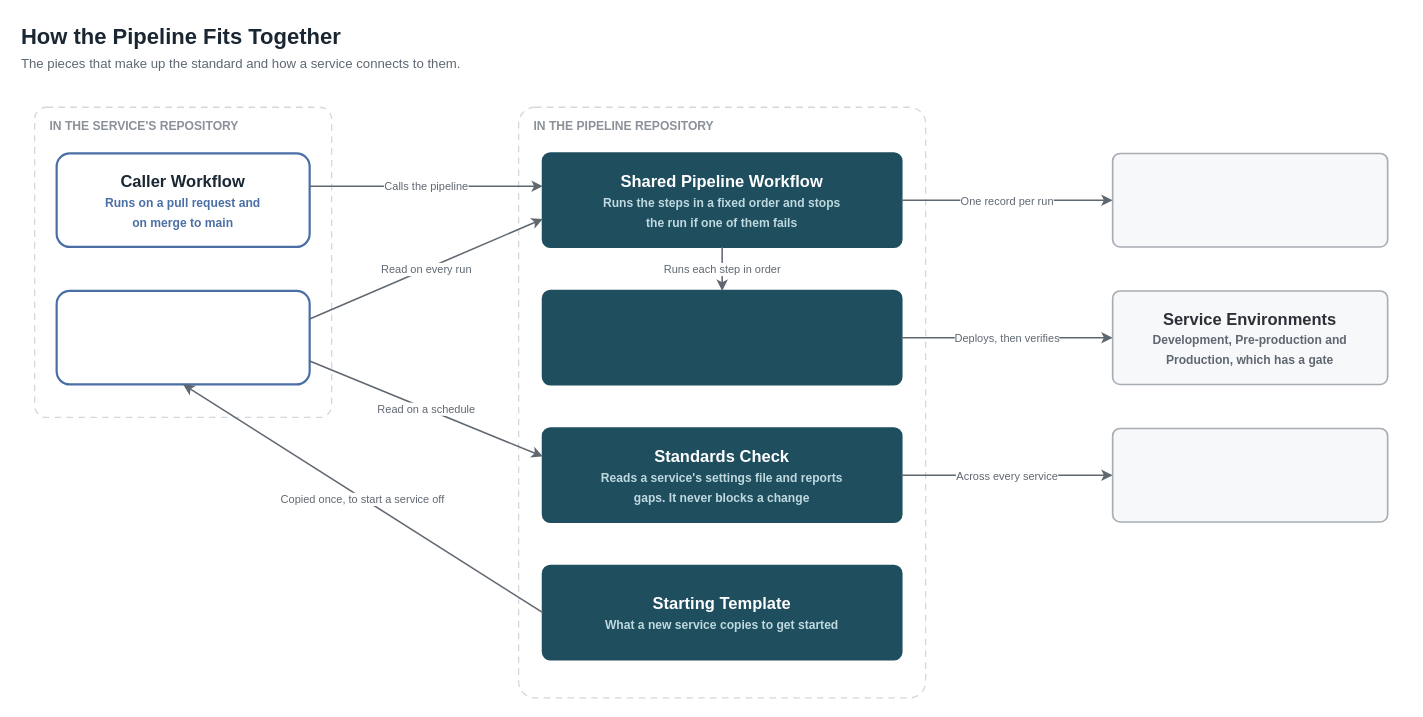
Some shapes in this 1423 by 717 pixel diagram are drawn without their labels. Each missing label, with the box of its shape:
Run Record What ran, what was checked and what was deployed: (1111, 152, 1388, 247)
Settings File Environments, test command, approvers, health endpoint: (55, 289, 310, 385)
Standards Check Report The view across services that governance reads: (1111, 427, 1388, 522)
Step Actions Check, Test, Scan, Build, Deploy and Verify: (541, 289, 902, 385)
